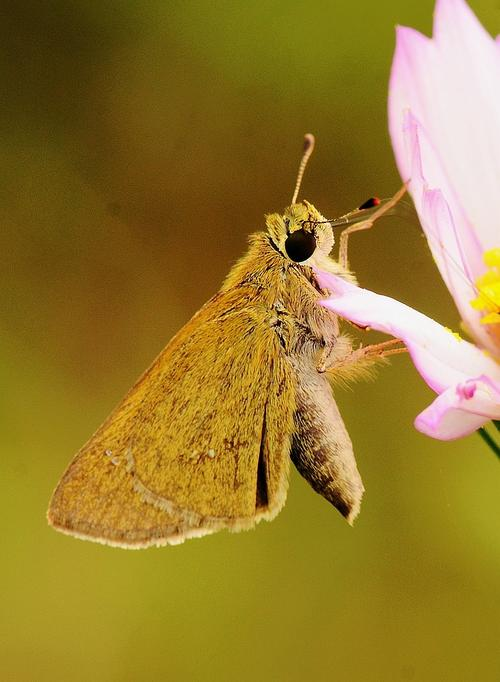Hesperiidae: (41, 130, 416, 560)
